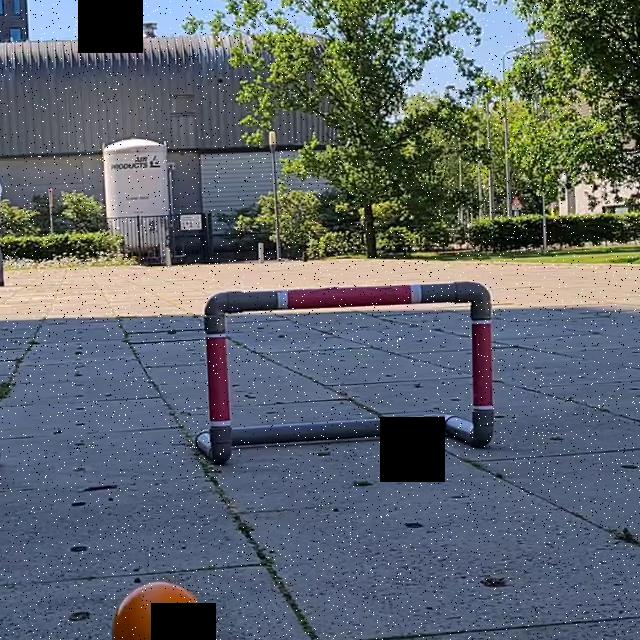ball: (110, 576, 212, 640)
